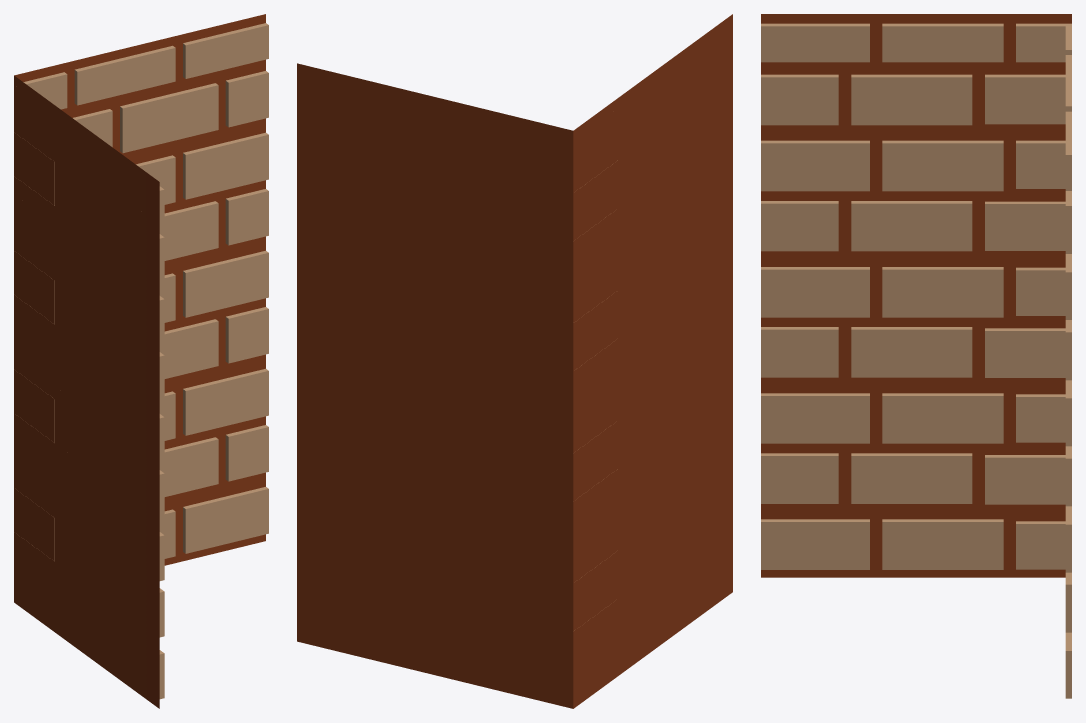
The model's file is Ext-BrickV1Corner-Inv.fbx.
3 views of the same model, side by side, from view 1: azimuth 30°, elevation 25°; view 2: azimuth 150°, elevation 25°; view 3: azimuth 270°, elevation 25° (orthographic). The views are drawn at different scales.
Visible parts, largest first — view 1: Ext-BrickV1Corner-Inv; view 2: Ext-BrickV1Corner-Inv; view 3: Ext-BrickV1Corner-Inv.
Boxes of the visible parts, x1,y1,x2,y2 form: Ext-BrickV1Corner-Inv: [14, 14, 268, 708]; Ext-BrickV1Corner-Inv: [297, 14, 732, 708]; Ext-BrickV1Corner-Inv: [761, 14, 1071, 698].
Size of the model in its own units: 100 by 200 by 100.
